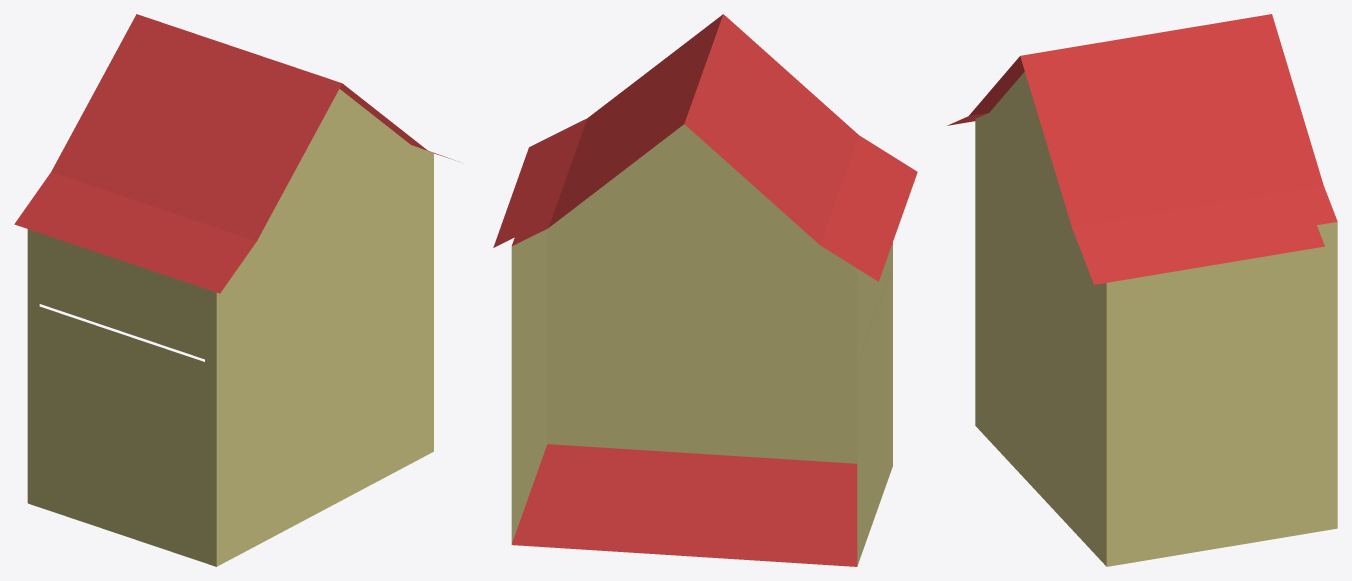
The picture shows the model from 3 angles, left to right: view 1: azimuth 30°, elevation 25°; view 2: azimuth 150°, elevation 25°; view 3: azimuth 270°, elevation 25°; orthographic projection. The views are drawn at different scales.
Size of the model in its own units: 15.89 by 13.09 by 16.38.
